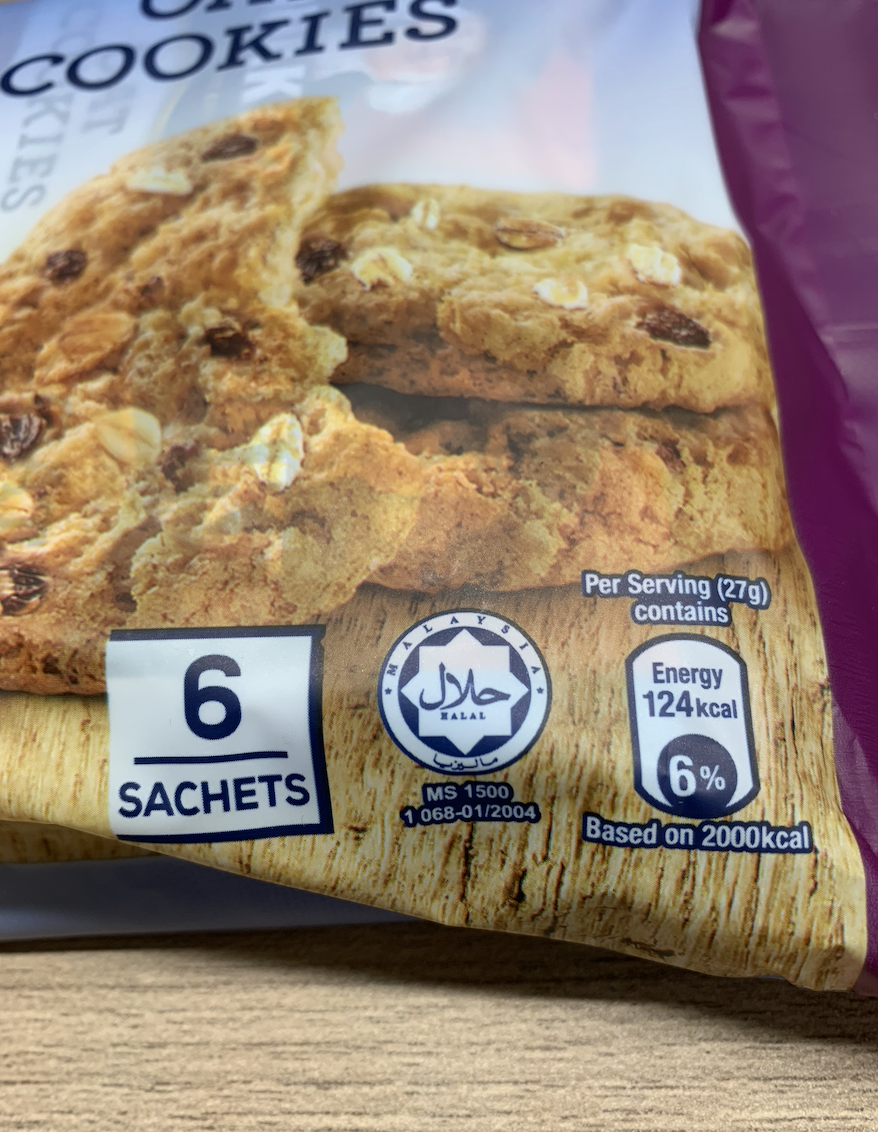halal: (417, 650, 517, 736)
